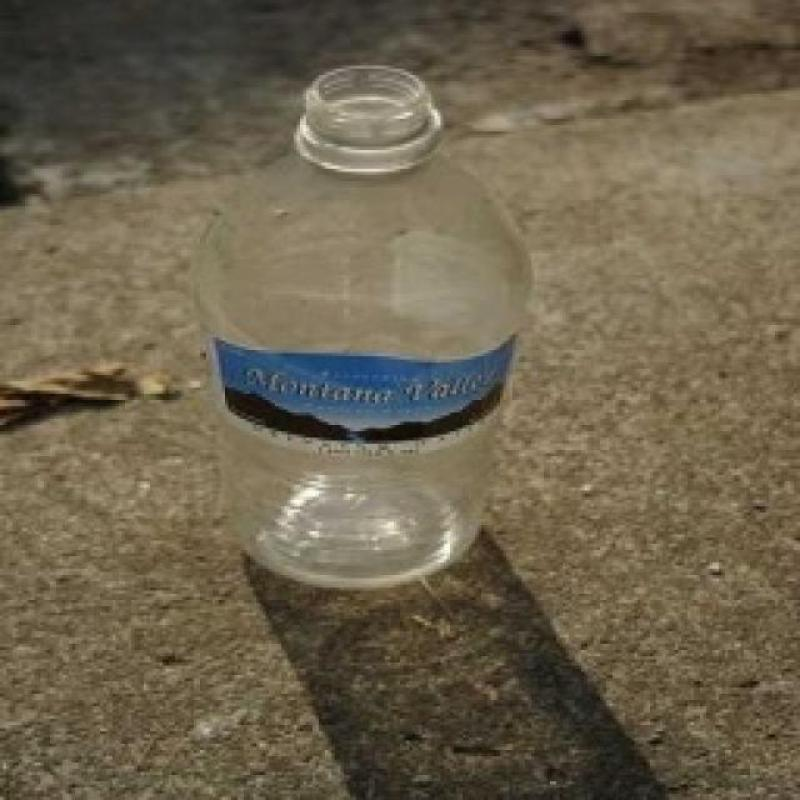botella: (193, 65, 538, 587)
